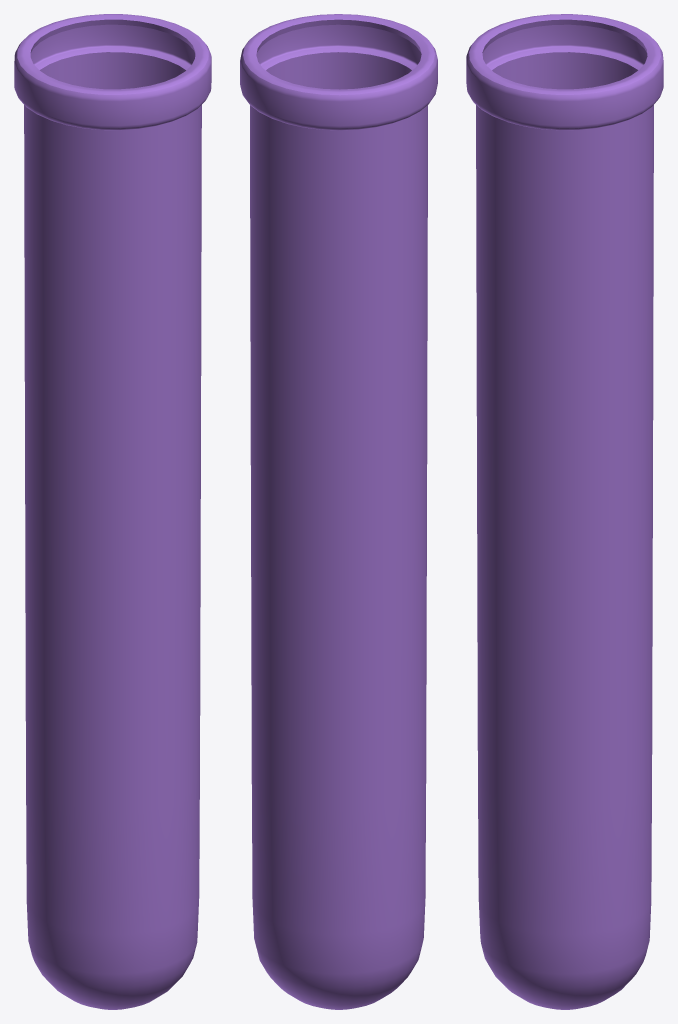
Rendered from Tubo.fbx.
3 renders of one model, left to right at view 1: azimuth 30°, elevation 25°; view 2: azimuth 150°, elevation 25°; view 3: azimuth 270°, elevation 25°, orthographic.
Visible parts, largest first — view 1: Tubo_Ensayo; view 2: Tubo_Ensayo; view 3: Tubo_Ensayo.
Boxes of the visible parts, x1=… form: Tubo_Ensayo: x1=14, y1=14, x2=211, y2=1009; Tubo_Ensayo: x1=240, y1=14, x2=437, y2=1009; Tubo_Ensayo: x1=466, y1=14, x2=663, y2=1009.
Size of the model in its own units: 2.95 by 15.64 by 2.95.
